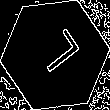L_SW: (28, 28, 82, 82)
